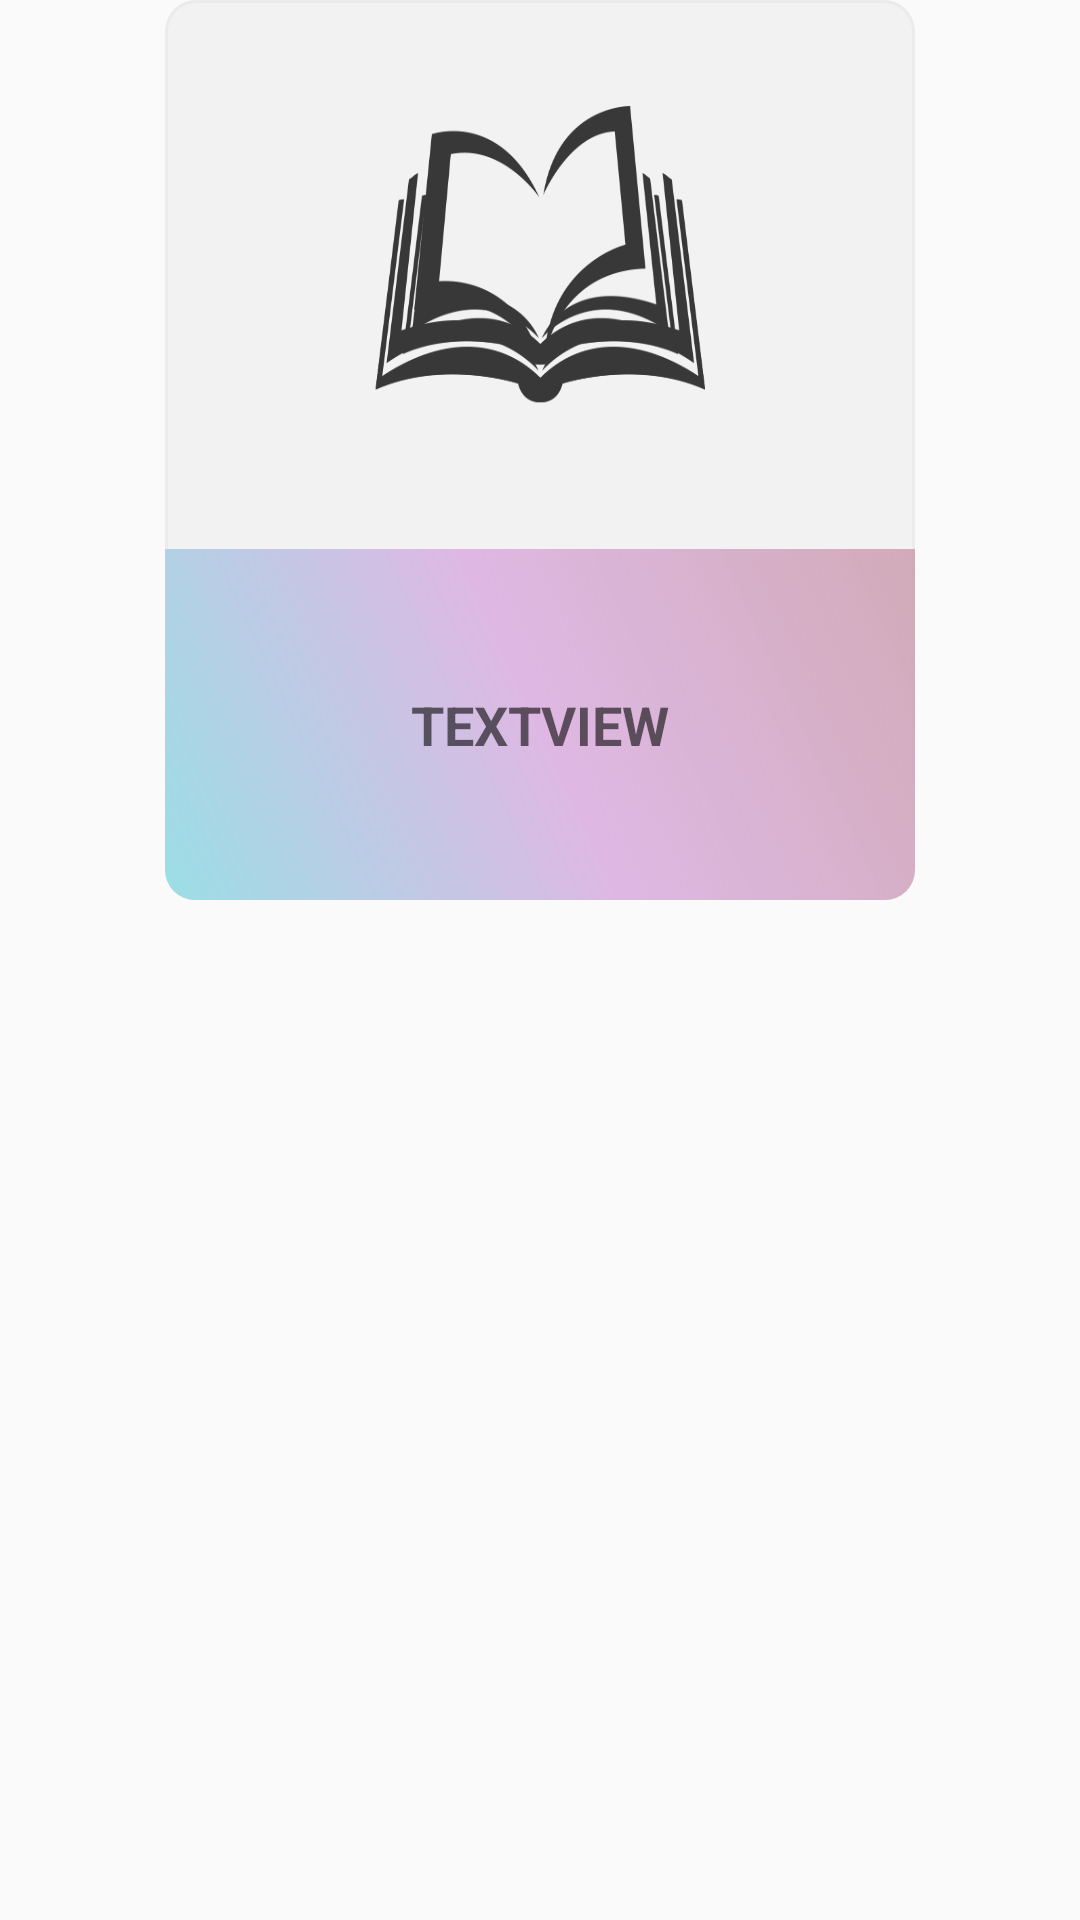

Locate icon controls on the screen. Image size 1080px x 1920px, boxes as [x1,y1,x2,y2].
book: [375,106,705,403]
